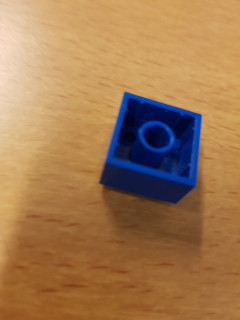2x2 blue: (98, 90, 203, 206)
